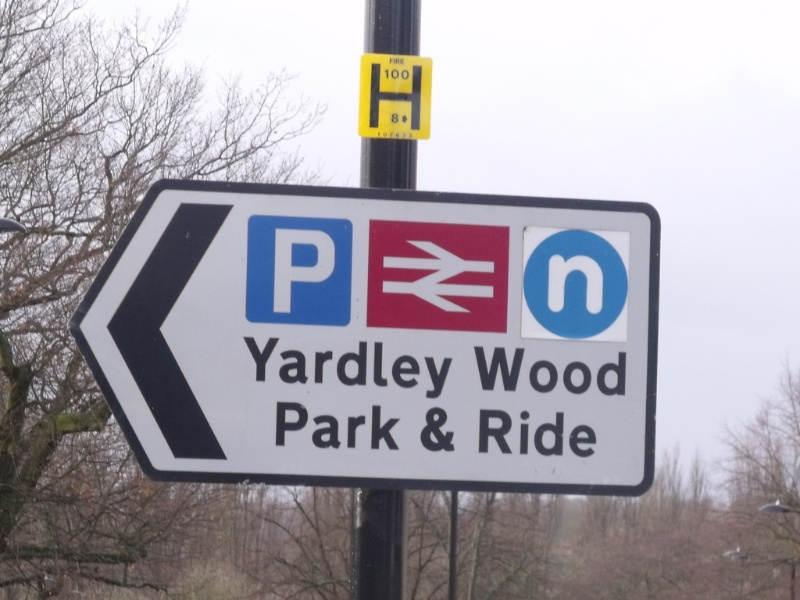parking: (246, 212, 354, 328)
